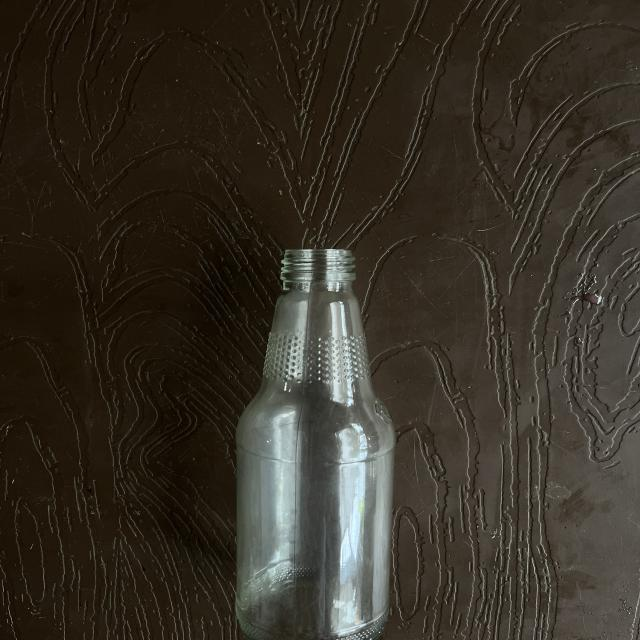Glass_Bottle: (236, 250, 395, 639)
